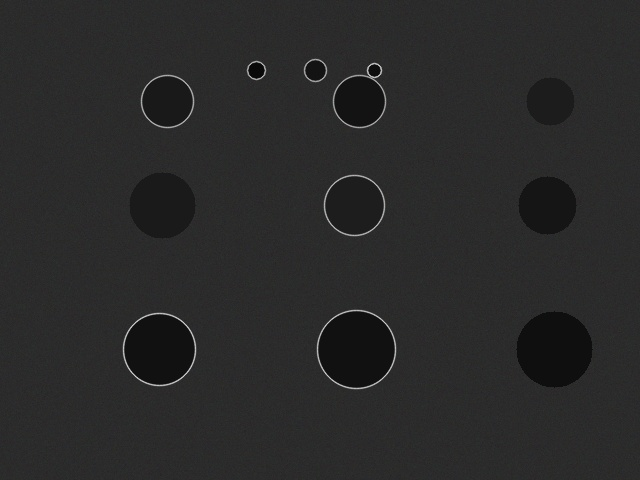hole: (317, 310, 395, 388), (516, 311, 592, 387), (123, 313, 195, 385), (129, 172, 195, 238), (324, 175, 384, 235), (518, 176, 576, 234), (141, 75, 193, 127), (333, 75, 385, 127), (526, 77, 574, 125), (304, 59, 326, 81), (247, 61, 265, 79), (367, 63, 381, 77)
